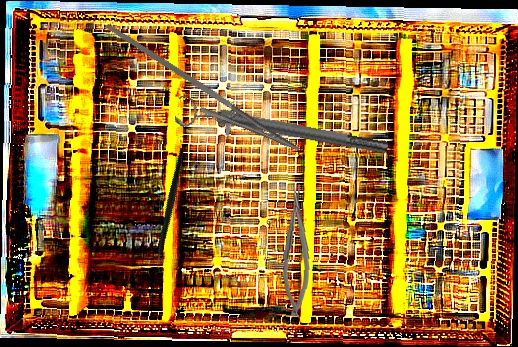Chopper: (117, 147, 226, 275)
Fixation Ring: (173, 91, 391, 167)
Needle Holder: (85, 22, 313, 168), (280, 182, 314, 319)
